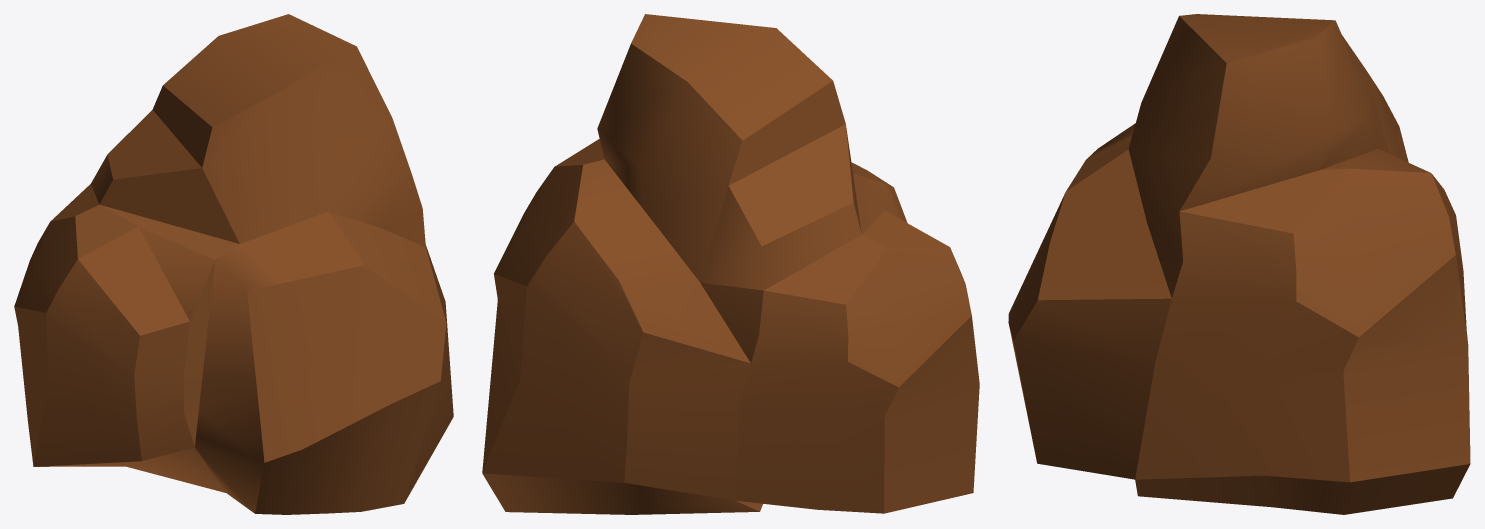
Rendered from Rock_2.glb.
3 views of the same model, side by side, from view 1: azimuth 30°, elevation 25°; view 2: azimuth 150°, elevation 25°; view 3: azimuth 270°, elevation 25° (orthographic). The views are drawn at different scales.
Parts seen in each view (by area): view 1: Rock_2; view 2: Rock_2; view 3: Rock_2.
Part boxes in pixels (x1,y1,x2,y2): Rock_2: [14, 14, 453, 514]; Rock_2: [482, 14, 979, 514]; Rock_2: [1008, 14, 1470, 514].
Size of the model in its own units: 2.74 by 2.71 by 2.52.
Materials: 1 (1 with a texture image).
